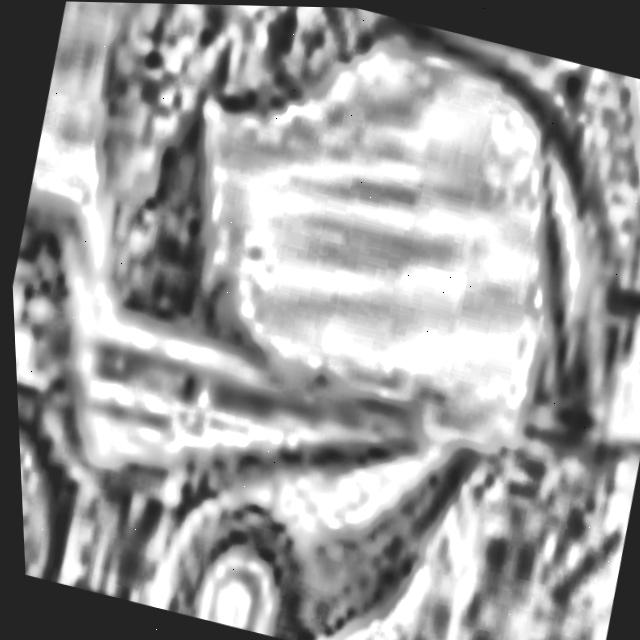dump_truck: (6, 168, 462, 640)
